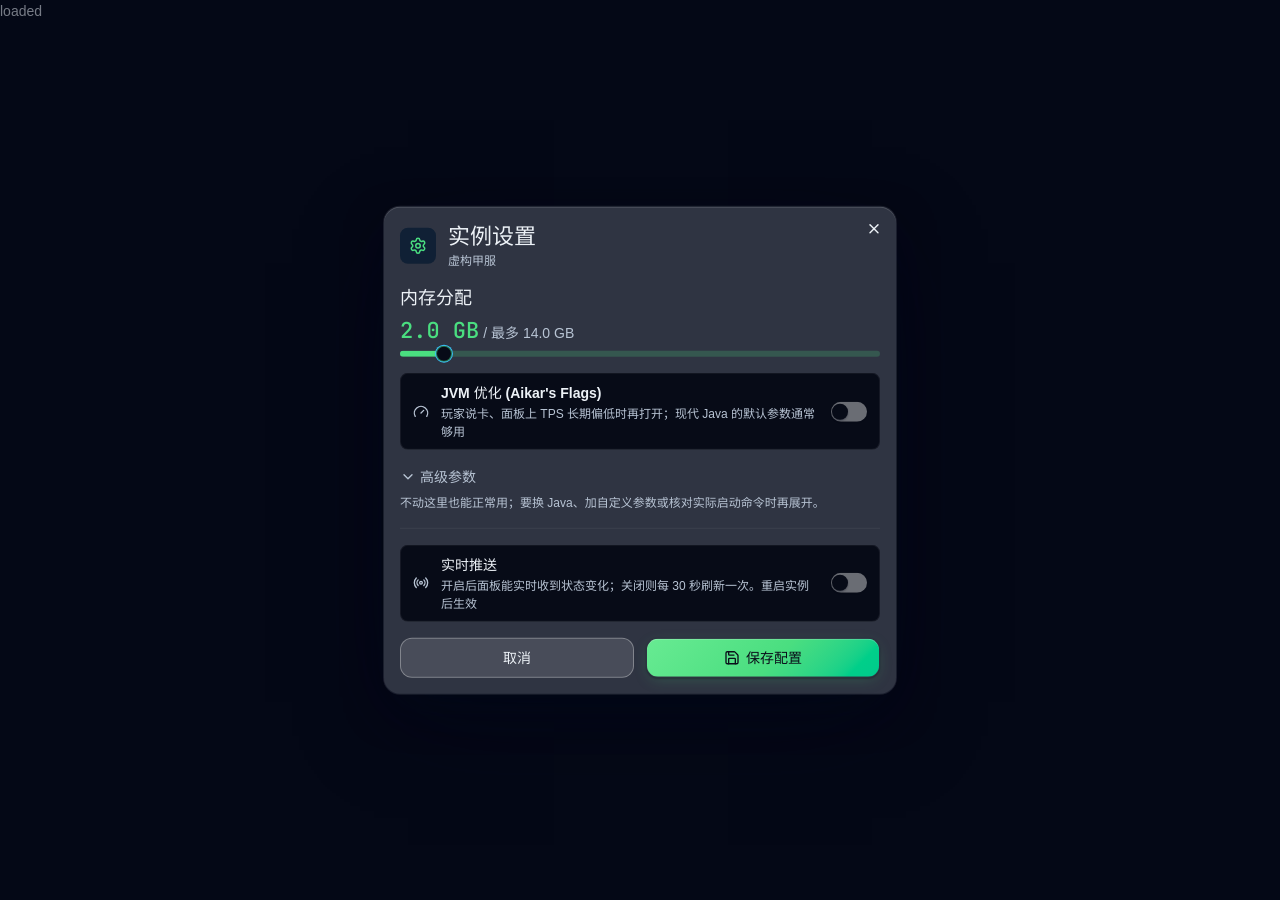
it: InstanceSettingsDialog › 高级参数展开：启动命令 + Java 路径 + JVM 参数多行 + 参数说明
Click the button "高级参数": (438, 477) [400, 466, 476, 488]
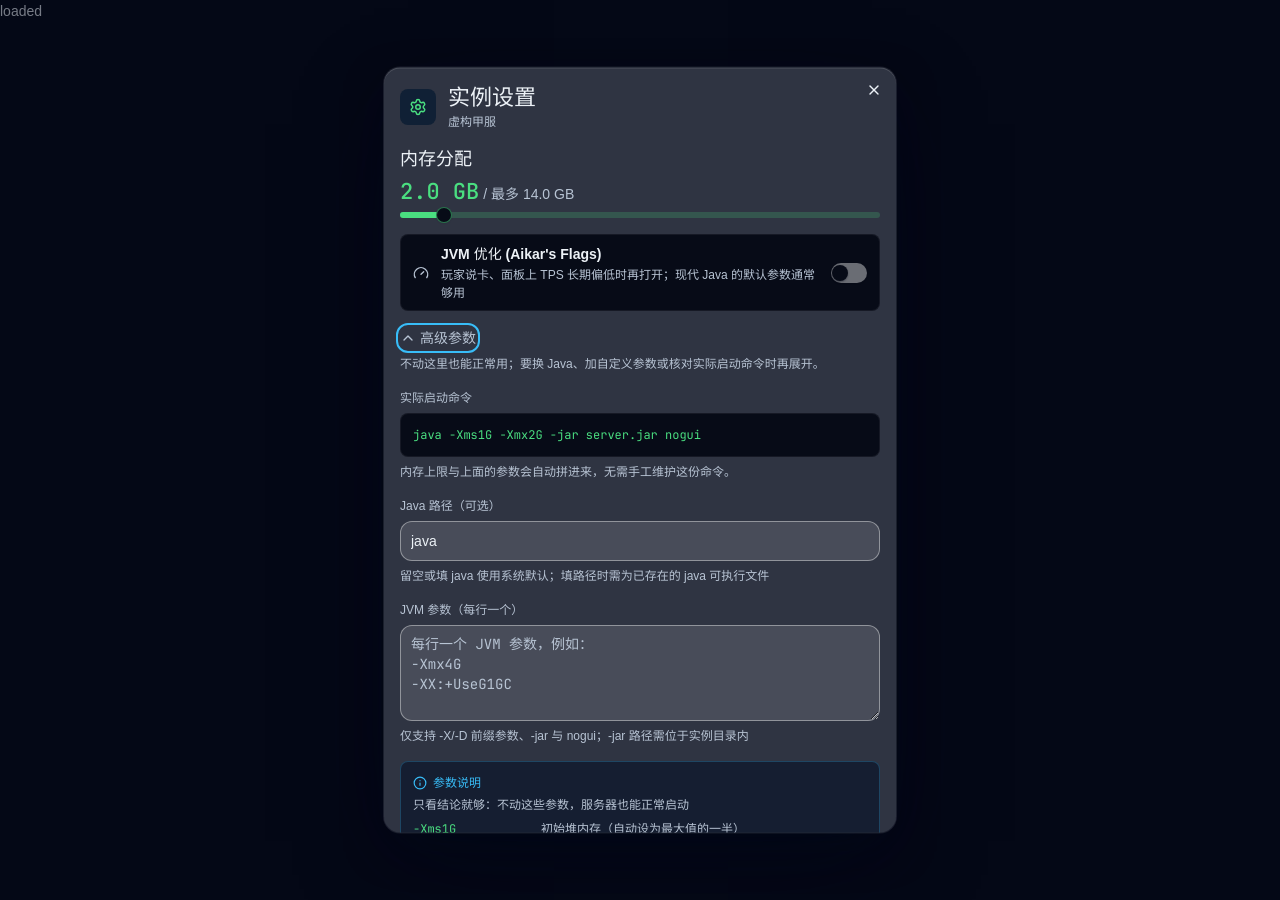
Result: the text "java -Xms1G -Xmx2G -jar server.jar nogui" is shown at [400, 413, 880, 457]
Result: the field named "Java 路径（可选）" holds "java" at [400, 521, 880, 561]
Result: the text box named "JVM 参数（每行一个）" is empty at [400, 625, 880, 721]
